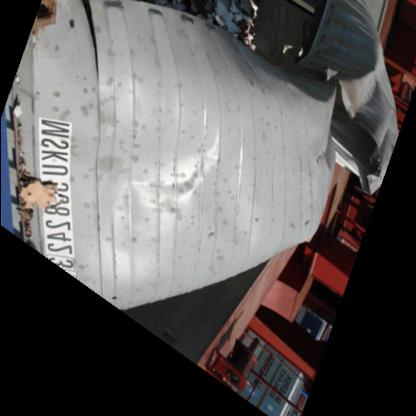Damage: (135, 2, 362, 52), (16, 122, 88, 240)
